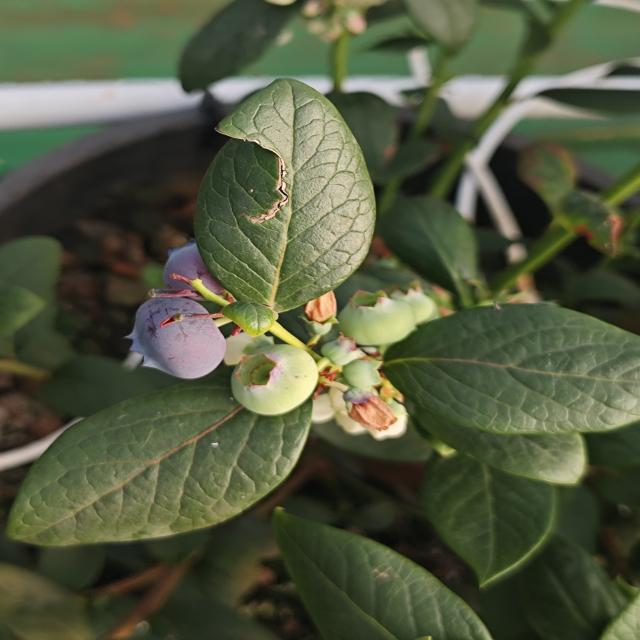ripe: (128, 294, 226, 386), (164, 247, 232, 300)
